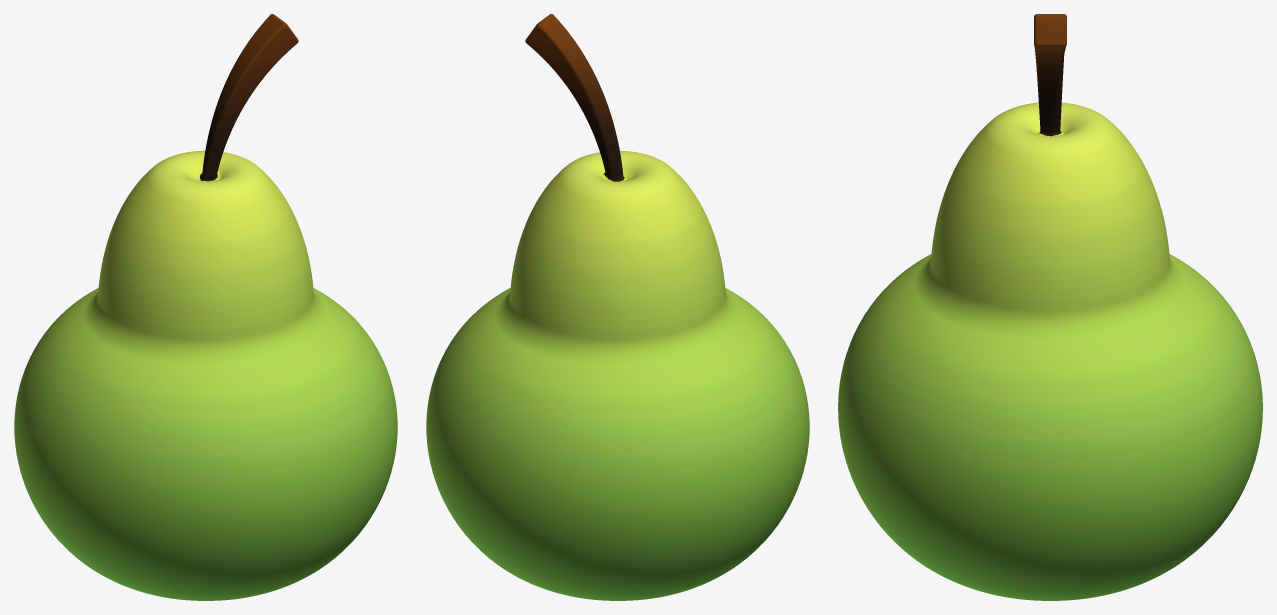
Rendered from Pear.fbx.
3 renders of one model, left to right at view 1: azimuth 30°, elevation 25°; view 2: azimuth 150°, elevation 25°; view 3: azimuth 270°, elevation 25°, orthographic. The views are drawn at different scales.
Parts seen in each view (by area): view 1: node_id30; view 2: node_id30; view 3: node_id30.
Part boxes in pixels (<box>): node_id30: <box>14,14,397,600</box>; node_id30: <box>426,14,809,600</box>; node_id30: <box>838,14,1262,600</box>.
Size of the model in its own units: 0.3384 by 0.512 by 0.3383.
Materials: 1 (1 with a texture image).
